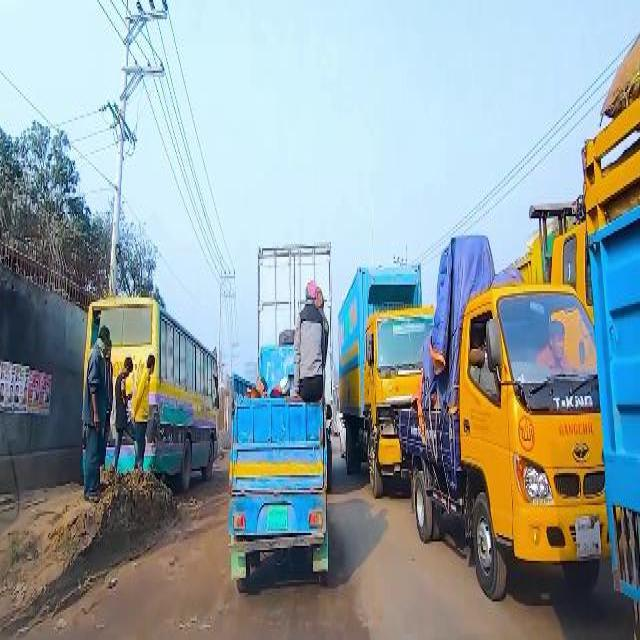bus: (86, 294, 220, 487)
pickup: (398, 234, 608, 598), (230, 343, 330, 588), (336, 262, 430, 493)
